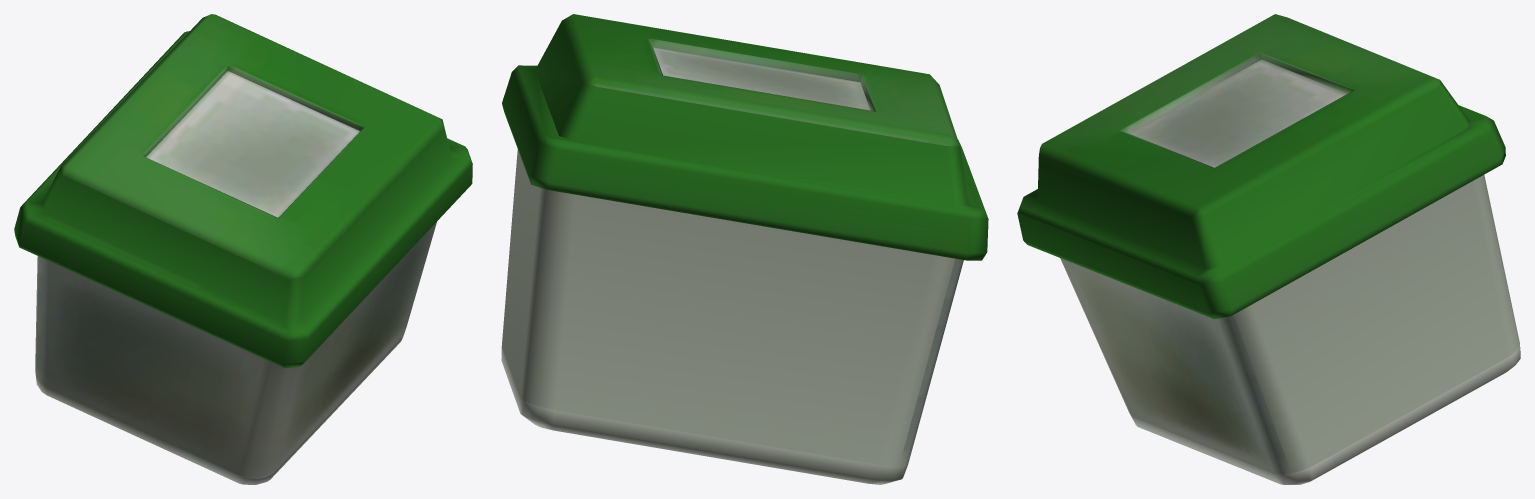
Rendered from UnitIconInsect.glb.
3 renders of one model, left to right at view 1: azimuth 30°, elevation 25°; view 2: azimuth 150°, elevation 25°; view 3: azimuth 270°, elevation 25°, orthographic. The views are drawn at different scales.
Parts seen in each view (by area): view 1: Body__mBody; view 2: Body__mBody; view 3: Body__mBody.
Boxes of the visible parts, x1,y1,x2,y2 form: Body__mBody: (14, 14, 472, 484); Body__mBody: (501, 14, 988, 484); Body__mBody: (1017, 14, 1520, 484).
Bounding box in the file's own units: 5.67 × 4.6 × 5.32.
Materials: 1 (1 with a texture image).
